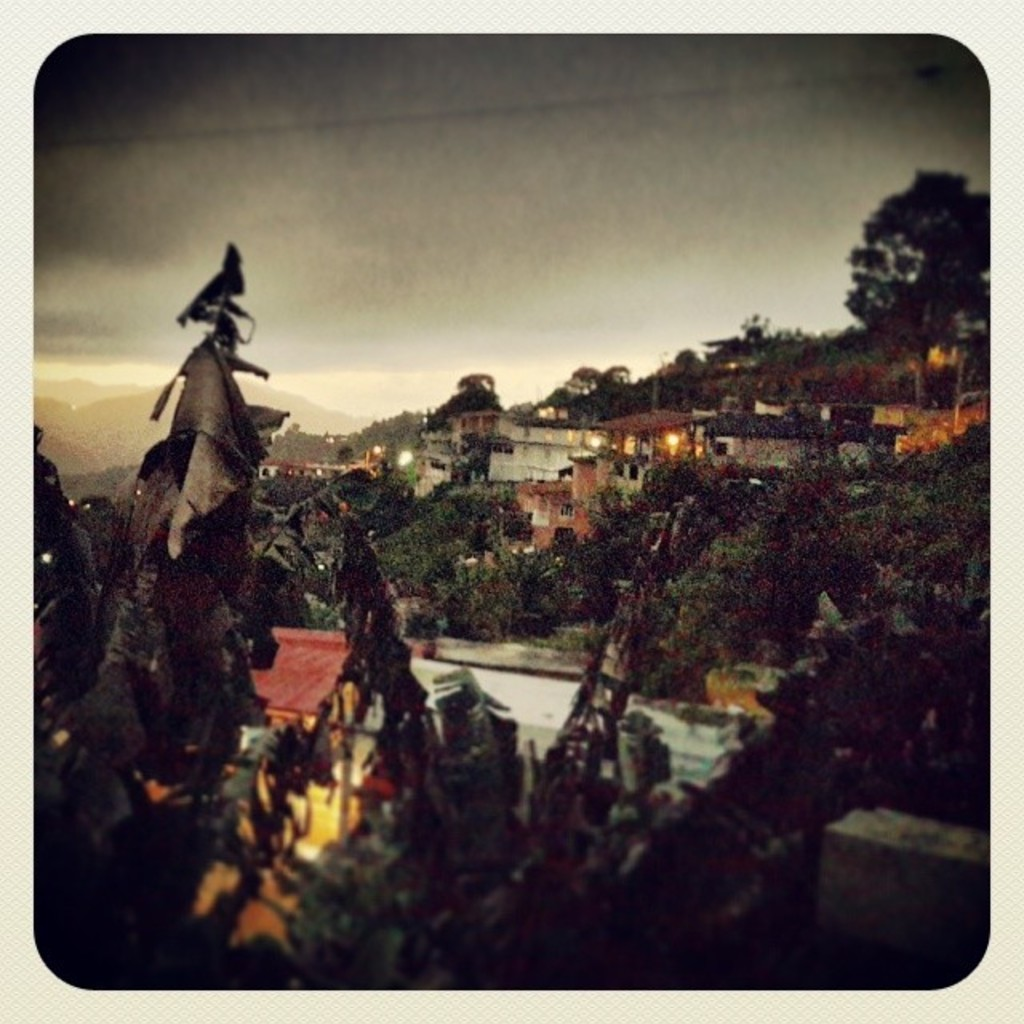Tree: (35, 241, 992, 990), (839, 121, 990, 395)
